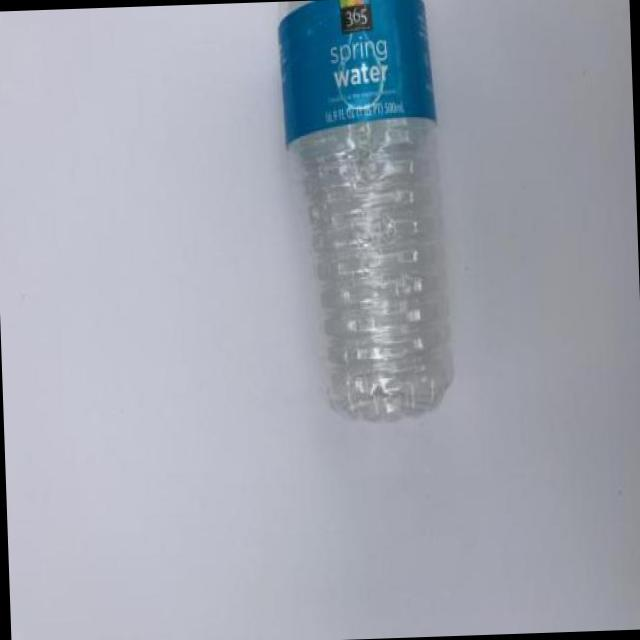plastic_bottle: (274, 0, 455, 427)
